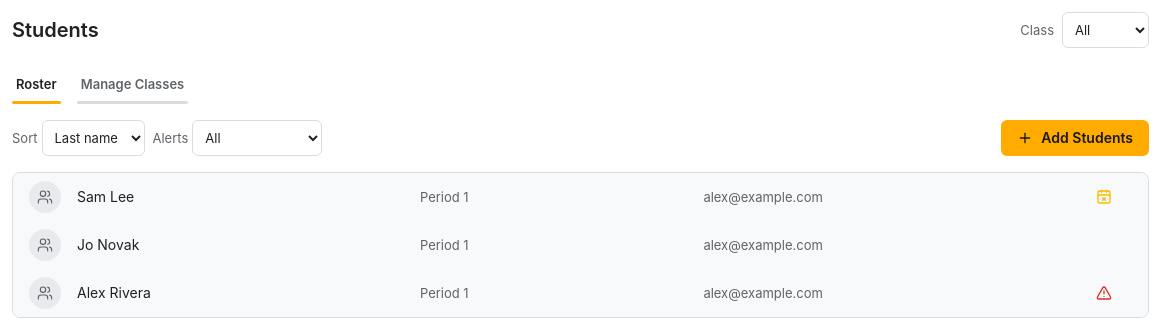
Test: StudentsPage › filters to each alert separately, and not to the two merged
This screenshot has width=1164, height=335.
Expected: the text "Jo Novak" is shown, [77, 236, 139, 253]
Select "Academic risk" in the dropdown named "Filter by alert" at (257, 138), box [192, 120, 322, 156]
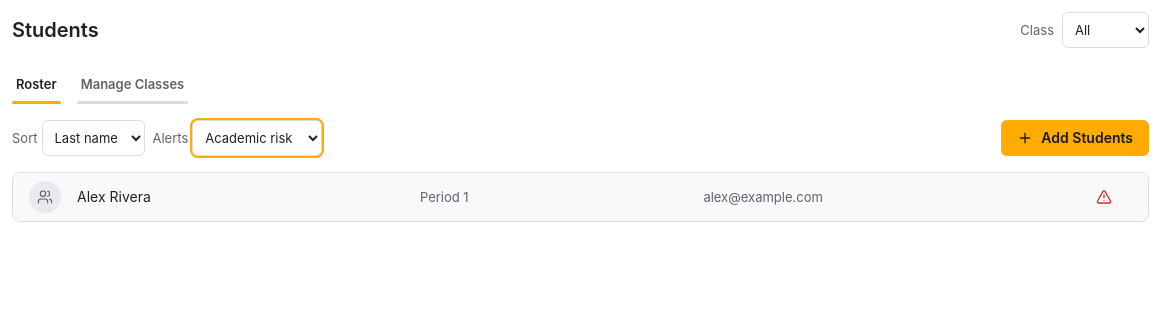
Expected: the text "Alex Rivera" is shown, [77, 188, 151, 205]
Now the button "Sam Lee" is gone
Now the button "Jo Novak" is gone
Select "High absences" in the dropdown named "Filter by alert" at (257, 138), box [192, 120, 322, 156]
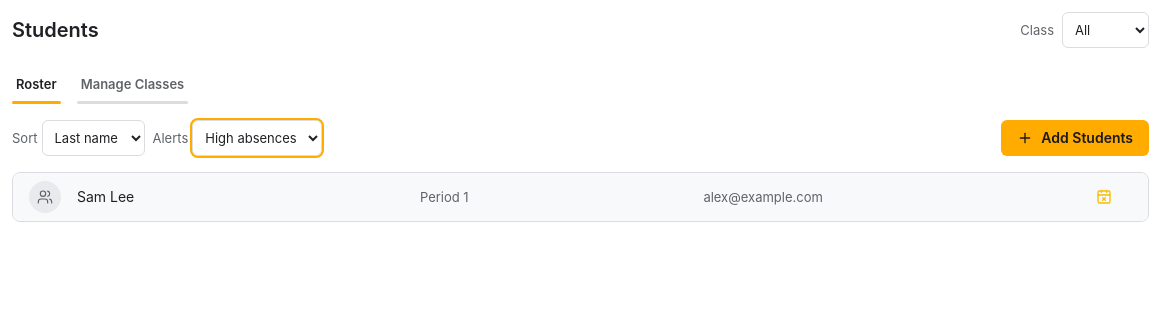
Now the text "Sam Lee" is shown, box [77, 188, 134, 205]
Now the button "Alex Rivera" is gone
